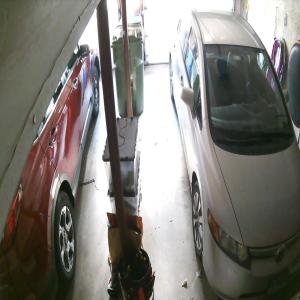garbage bin: (112, 23, 145, 118)
honda civic: (169, 7, 300, 298)
honda crv: (0, 13, 101, 300)
tool bucket: (120, 244, 157, 300)
